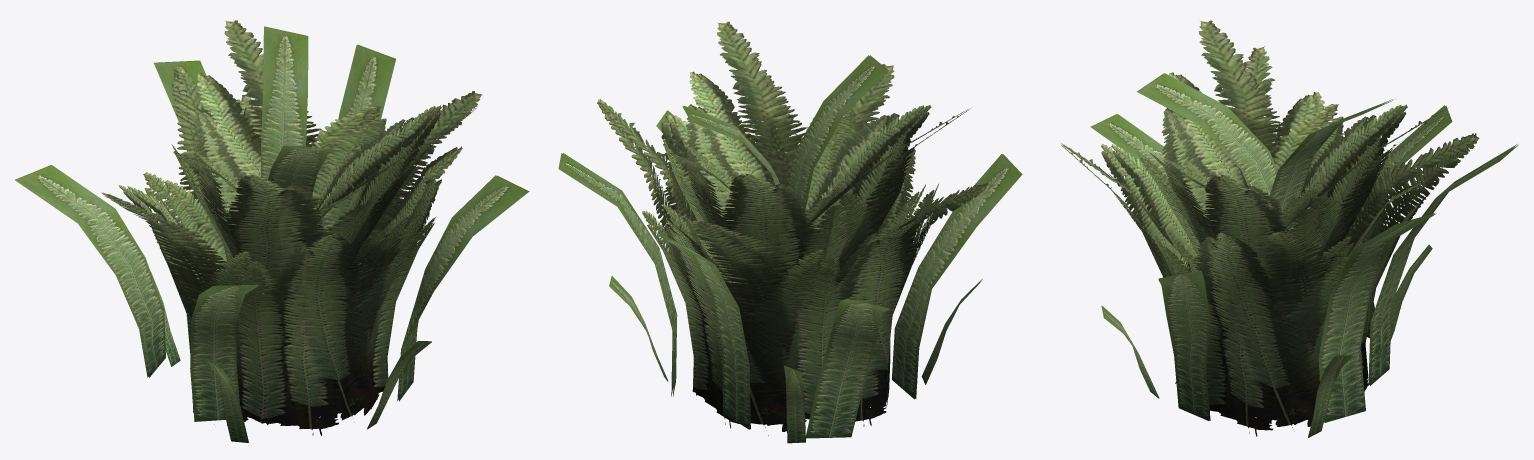
Rendered from frst_fern_green_longleaf_l0.fbx.
The picture shows the model from 3 angles, left to right: view 1: azimuth 30°, elevation 25°; view 2: azimuth 150°, elevation 25°; view 3: azimuth 270°, elevation 25°; orthographic projection.
Visible parts, largest first — view 1: mesh_node; view 2: mesh_node; view 3: mesh_node.
Boxes of the visible parts, box(x1,y1,x2,y2) form: mesh_node: box(15, 20, 529, 442); mesh_node: box(558, 21, 1022, 443); mesh_node: box(1060, 20, 1518, 437).
Size of the model in its own units: 5.02 by 3.86 by 5.13.
